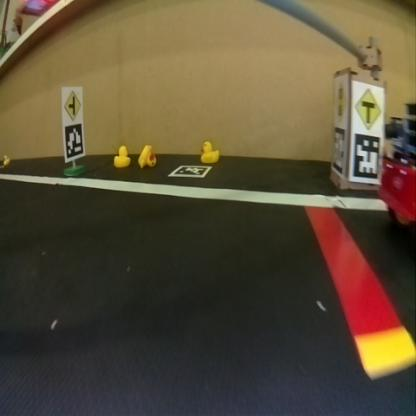Duckie: (137, 144, 155, 167), (201, 140, 219, 162), (114, 146, 127, 166), (3, 155, 9, 164)
Duckiebot: (382, 102, 414, 224)
Intersection sign: (353, 85, 382, 126), (62, 89, 80, 119)
QR code: (352, 135, 380, 177), (65, 123, 84, 158), (331, 126, 344, 174), (168, 164, 210, 177)
Signal sign: (333, 74, 346, 121)
